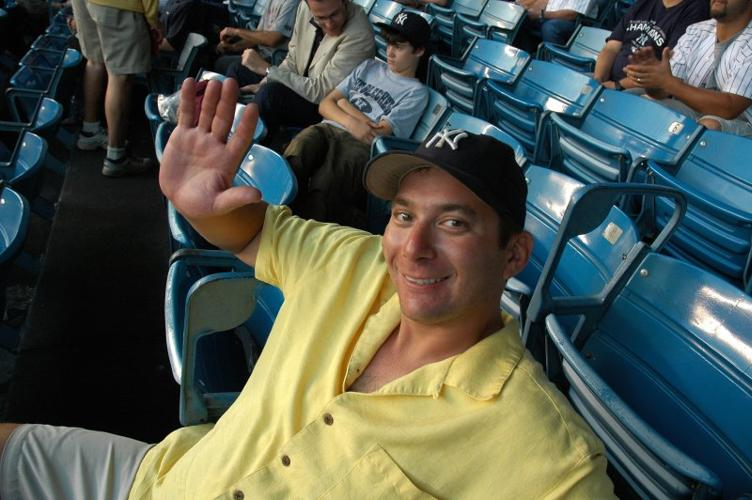person: (1, 74, 621, 500)
